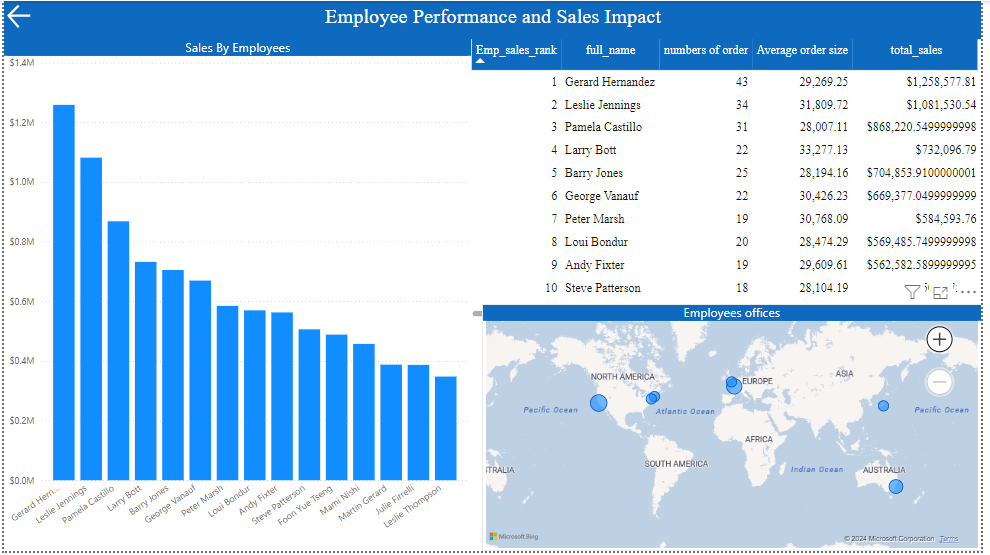

This screenshot's page, from the dashboard's own definition file:
{"tool":"powerbi","page":{"name":"Page 2","canvas":[1280,720],"ordinal":1},"visuals":[{"type":"columnChart","title":"Sales By Employees","fields":{"Category":["employees.full_name"],"Y":["order_details.total_sales"]},"box":[0,50.4,612,669.6],"z":0},{"type":"tableEx","fields":{"Values":["employees.Emp_sales_rank","employees.full_name","orders.numbers of order","orders.Average order size","order_details.total_sales"]},"box":[612,50.4,668.2,368.6],"z":1},{"type":"textbox","box":[0,0,1280.2,50.4],"z":2},{"type":"actionButton","box":[0,0,43.2,40.3],"z":3},{"type":"map","title":"Employees offices","fields":{"Category":["office.city"],"Size":["employees.employeeNumber"]},"box":[626.4,396,653.8,324],"z":5}]}

Visuals, with their boxes on the page's 1280x720 design canvas (x1, y1, x2, y2). These are canvas units, not pixel positions in the 990x555 screenshot, which may show the page scaled, cropped or inside an application window:
"Sales By Employees" columnChart: (0, 50, 612, 720)
tableEx - employees.Emp_sales_rank x employees.full_name: (612, 50, 1280, 419)
textbox: (0, 0, 1280, 50)
actionButton: (0, 0, 43, 40)
"Employees offices" map: (626, 396, 1280, 720)
